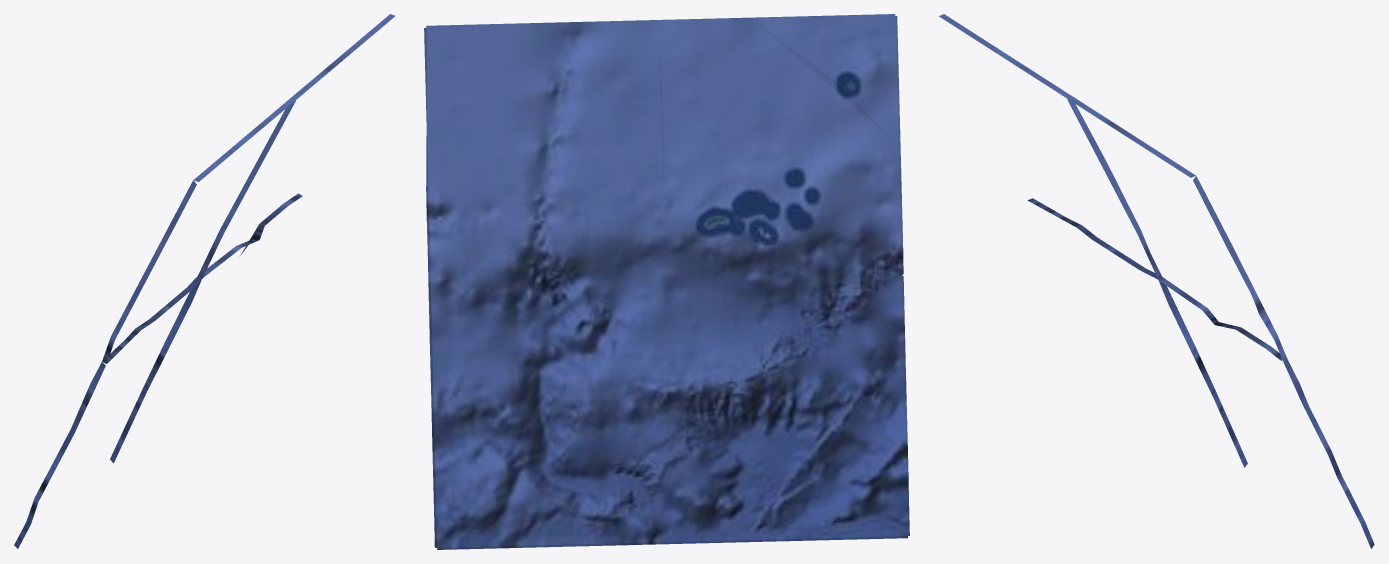
The picture shows the model from 3 angles, left to right: view 1: azimuth 30°, elevation 25°; view 2: azimuth 150°, elevation 25°; view 3: azimuth 270°, elevation 25°; orthographic projection. The views are drawn at different scales.
Size of the model in its own units: 77438 by 72044 by 67294.
Materials: 1 (1 with a texture image).
